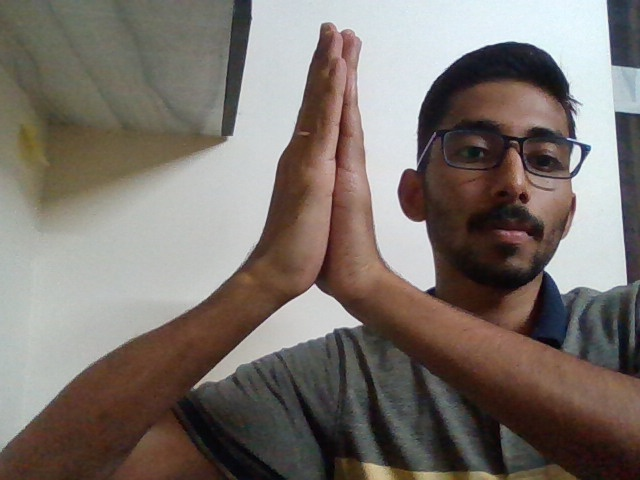Thank You: (230, 14, 421, 347)
